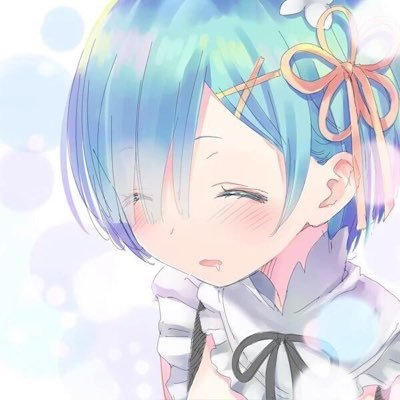rem: (66, 1, 397, 400)
